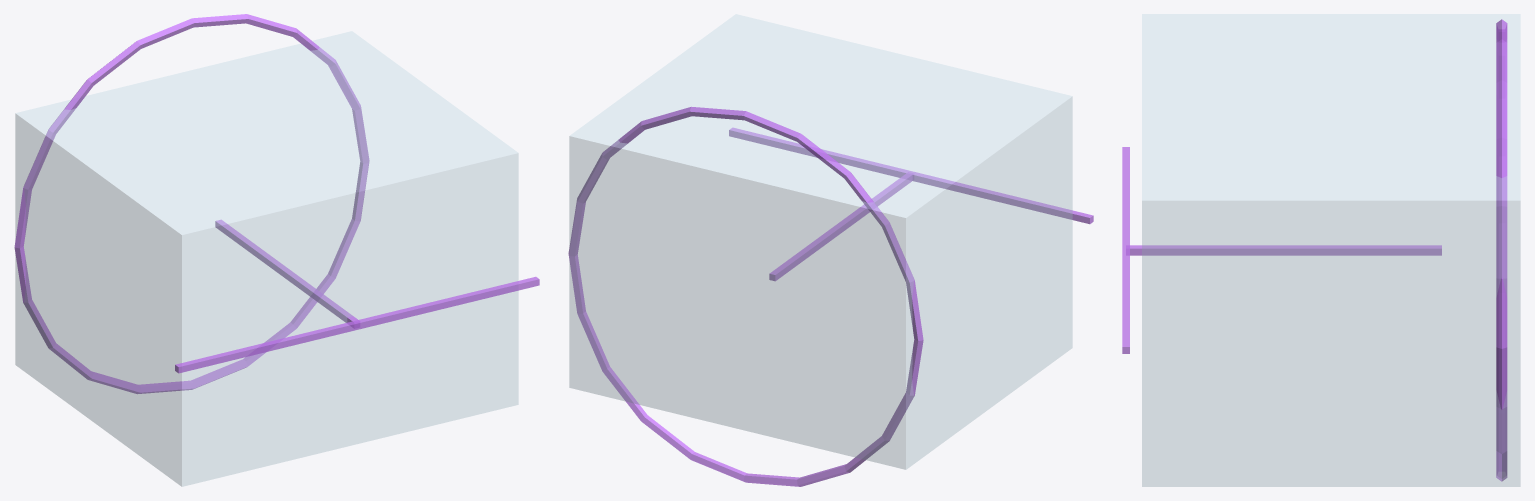
The model's file is 12_streaming_volume_helper.glb.
3 renders of one model, left to right at view 1: azimuth 30°, elevation 25°; view 2: azimuth 150°, elevation 25°; view 3: azimuth 270°, elevation 25°, orthographic. The views are drawn at different scales.
Parts seen in each view (by area): view 1: transparent_volume, helper_ring, axis_x, axis_z; view 2: transparent_volume, helper_ring, axis_x, axis_z; view 3: transparent_volume, helper_ring, axis_z, axis_x.
Part boxes in pixels (x1,y1,x2,y2): transparent_volume: (15, 31, 518, 486); helper_ring: (14, 14, 369, 393); axis_x: (175, 276, 539, 373); axis_z: (215, 219, 359, 328); transparent_volume: (569, 14, 1072, 469); helper_ring: (568, 106, 923, 486); axis_x: (729, 127, 1093, 224); axis_z: (769, 172, 913, 281); transparent_volume: (1142, 14, 1520, 486); helper_ring: (1496, 19, 1507, 481); axis_z: (1126, 245, 1441, 255); axis_x: (1122, 147, 1129, 353).
Size of the model in its own units: 1.5 by 1.48 by 1.26.
